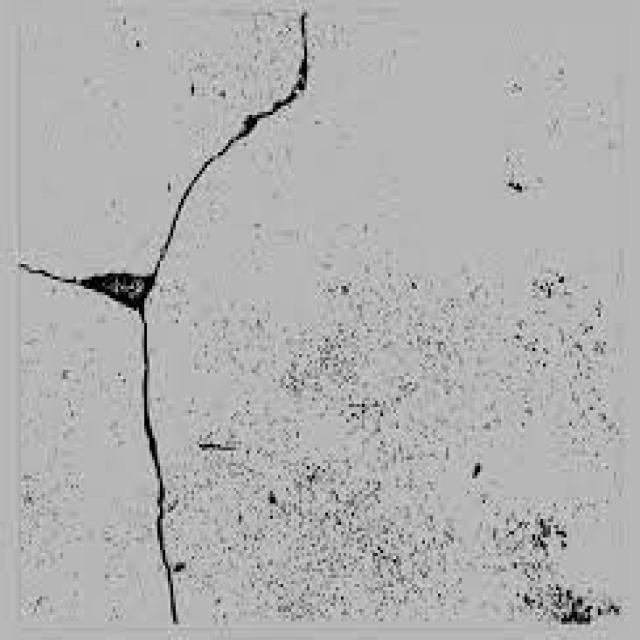Crack: (150, 9, 312, 270), (136, 302, 178, 622), (19, 254, 158, 310)
